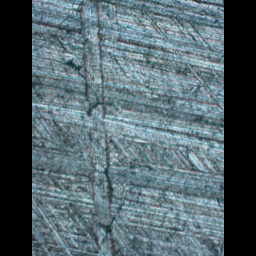d: (53, 0, 119, 255), (138, 0, 223, 112)
